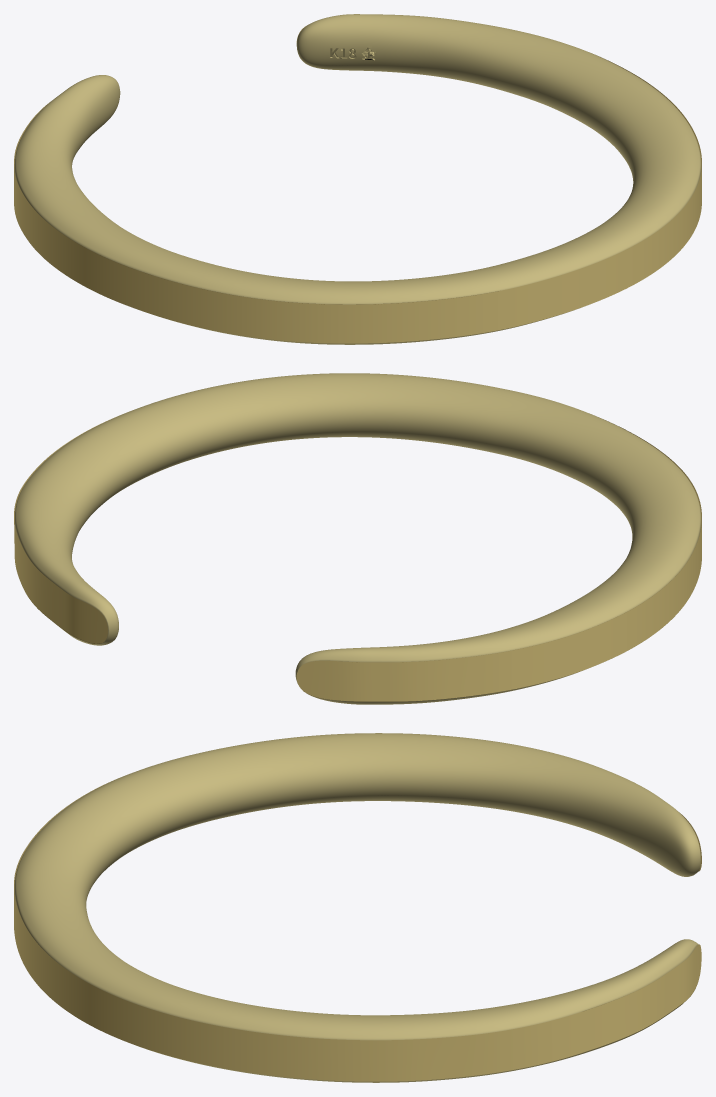
The model's file is ring-gold18.glb.
The picture shows the model from 3 angles, top to bottom: view 1: azimuth 30°, elevation 25°; view 2: azimuth 150°, elevation 25°; view 3: azimuth 270°, elevation 25°; orthographic projection. The views are drawn at different scales.
Parts seen in each view (by area): view 1: ring-body.004, ring-body.005; view 2: ring-body.004, ring-body.005; view 3: ring-body.004, ring-body.005.
Boxes of the visible parts, x1,y1,x2,y2 form: ring-body.004: (14, 14, 701, 344); ring-body.005: (14, 25, 701, 343); ring-body.004: (15, 373, 701, 704); ring-body.005: (14, 412, 701, 701); ring-body.004: (14, 733, 700, 1082); ring-body.005: (14, 776, 701, 1081).
Size of the model in its own units: 0.5126 by 0.0444 by 0.4867.
2 materials, 2 textured.
